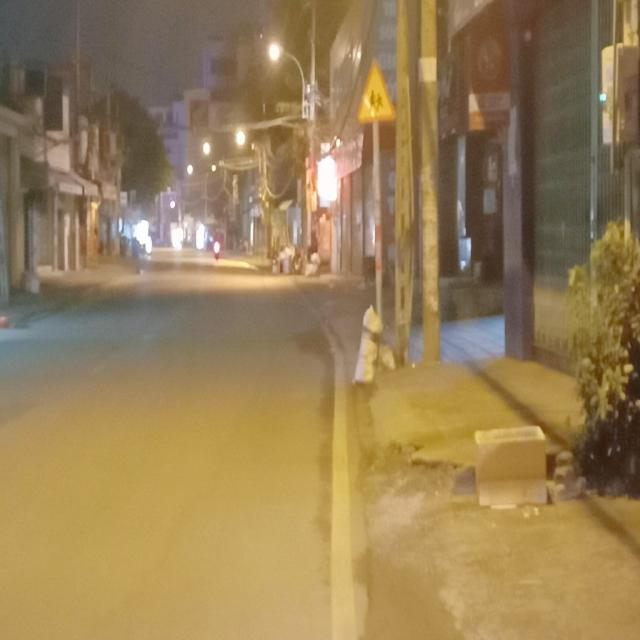chu_y_tre_em: (356, 56, 398, 126)
